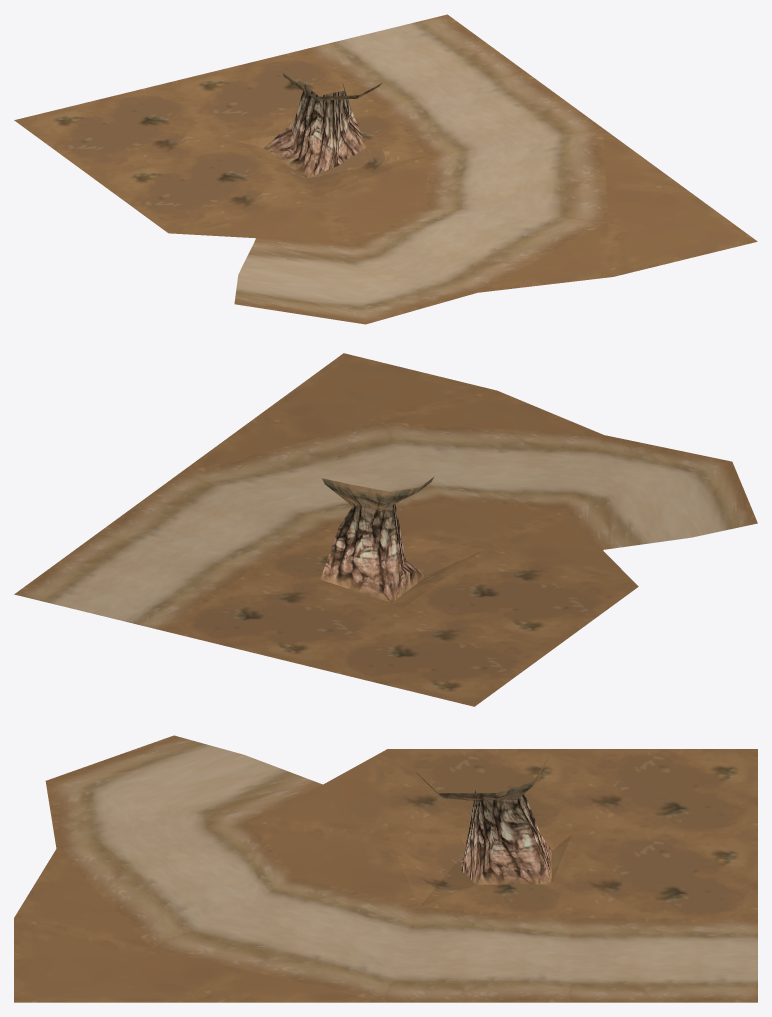
3 renders of one model, top to bottom at view 1: azimuth 30°, elevation 25°; view 2: azimuth 150°, elevation 25°; view 3: azimuth 270°, elevation 25°, orthographic. The views are drawn at different scales.
Parts seen in each view (by area): view 1: 4; view 2: 4; view 3: 4.
Part boxes in pixels (x1,y1,x2,y2): 4: (14, 14, 757, 324); 4: (14, 353, 757, 706); 4: (14, 735, 757, 1002).
Size of the model in its own units: 7267 by 1591 by 8553.
5 materials, 5 textured.
